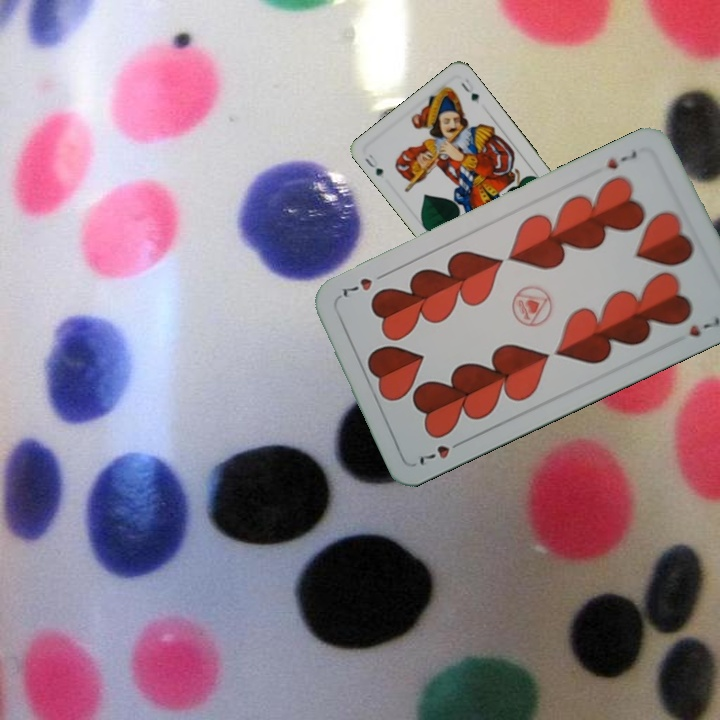GU: (361, 150, 386, 179)
H7: (415, 435, 468, 468), (603, 146, 640, 172)
